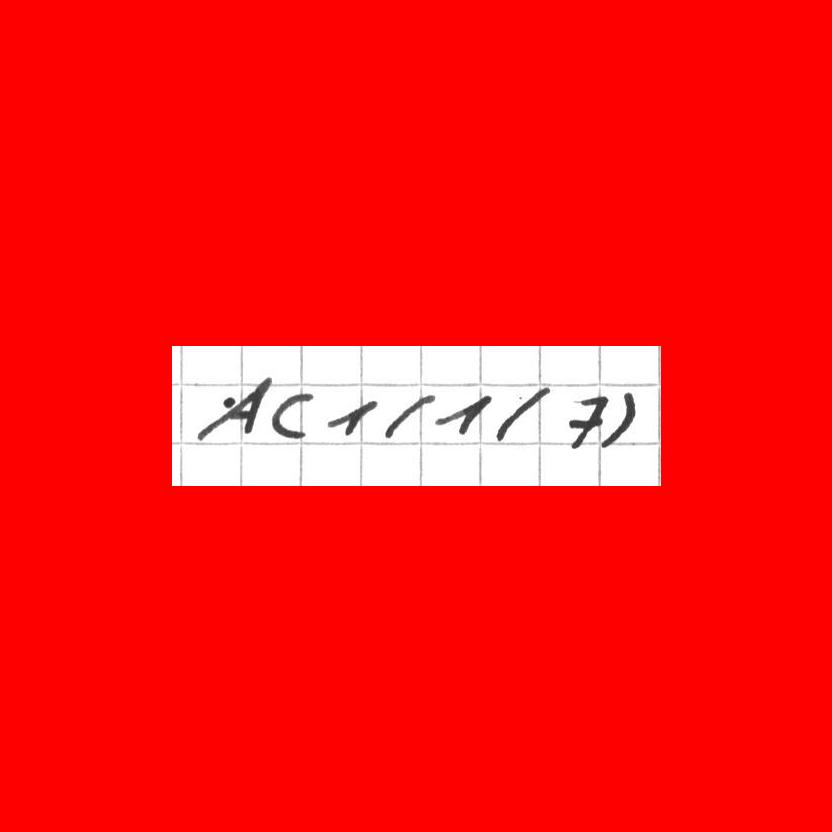Char: (197, 375, 270, 440), (564, 389, 615, 450), (495, 387, 549, 441), (380, 391, 437, 442), (437, 391, 492, 437), (271, 387, 315, 443), (323, 398, 377, 438), (603, 389, 636, 446)
